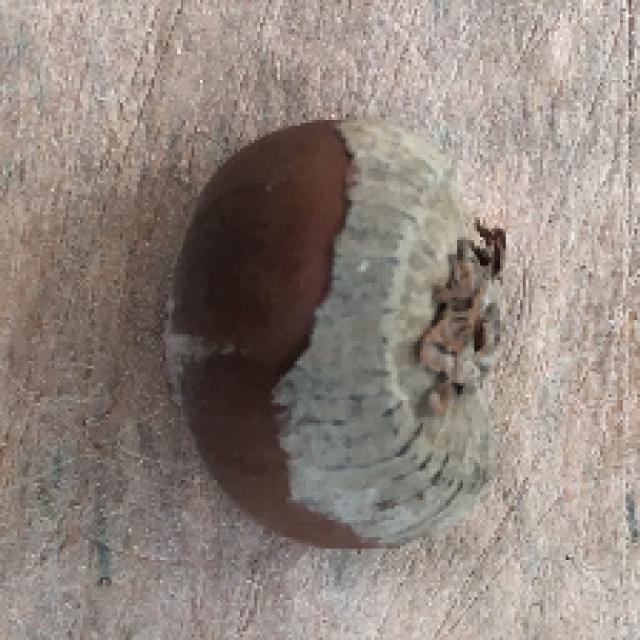damagedHazelnut: (155, 113, 531, 553)
